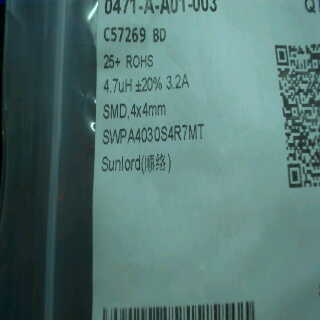4.7uH: (101, 73, 134, 96)
